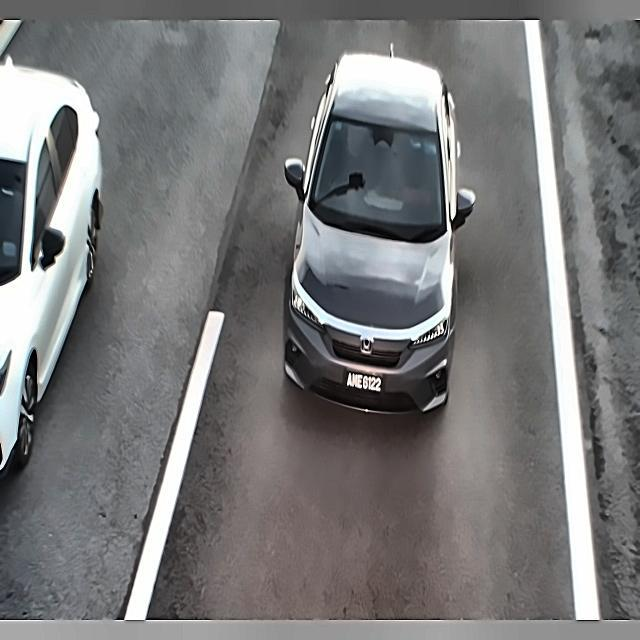car: (336, 363, 394, 399)
